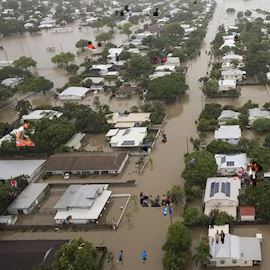Human: (15, 120, 36, 146), (140, 134, 167, 153), (140, 192, 174, 207), (245, 161, 263, 189), (114, 250, 147, 265), (84, 53, 119, 67), (114, 5, 158, 16), (227, 167, 244, 180), (197, 237, 214, 247), (188, 50, 211, 57), (8, 180, 21, 191), (215, 230, 225, 244), (3, 122, 13, 136), (4, 192, 27, 198), (154, 56, 171, 64), (88, 41, 102, 49), (209, 211, 215, 229), (163, 208, 173, 218), (108, 221, 118, 230), (234, 34, 240, 46), (190, 158, 198, 167), (66, 215, 74, 223), (238, 144, 245, 149), (119, 205, 123, 212), (193, 1, 197, 7), (140, 74, 143, 78), (228, 215, 230, 220), (163, 104, 165, 109), (81, 132, 83, 137), (218, 62, 220, 67)
